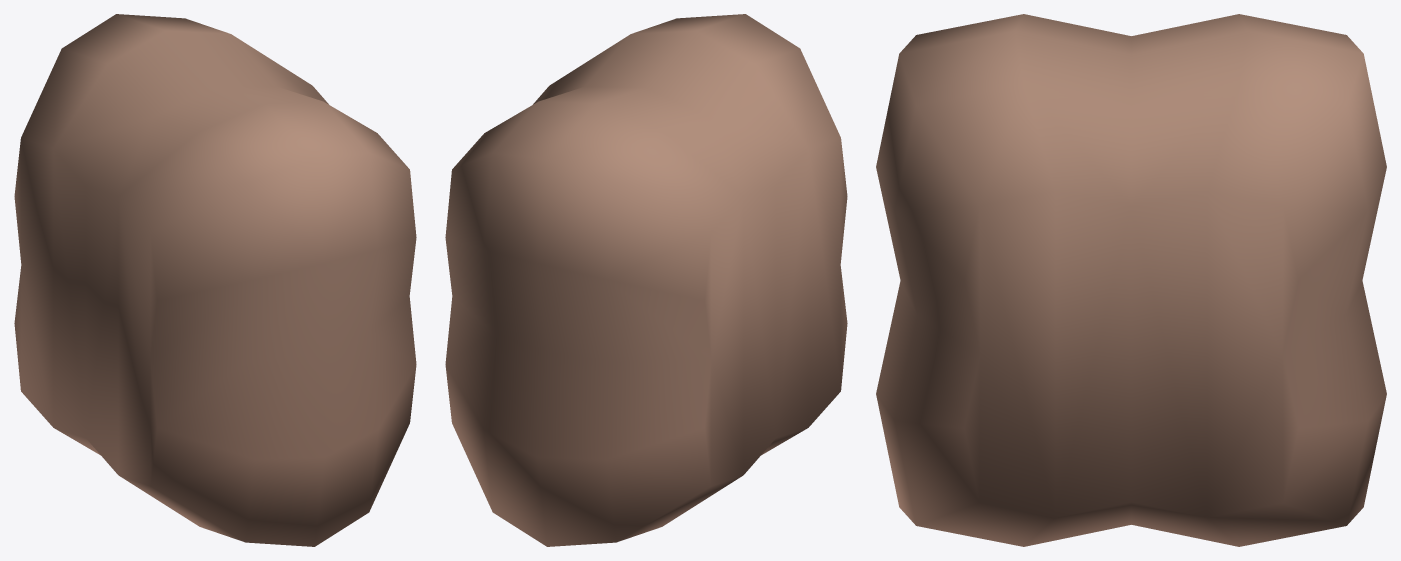
File: pillow-fluffy-square.glb
3 views of the same model, side by side, from view 1: azimuth 30°, elevation 25°; view 2: azimuth 150°, elevation 25°; view 3: azimuth 270°, elevation 25° (orthographic). The views are drawn at different scales.
Visible parts, largest first — view 1: pillow-fluffy-square; view 2: pillow-fluffy-square; view 3: pillow-fluffy-square.
Boxes of the visible parts, x1,y1,x2,y2 form: pillow-fluffy-square: (14,14,416,546); pillow-fluffy-square: (445,14,847,546); pillow-fluffy-square: (876,14,1386,546).
Bounding box in the file's own units: 0.2336 × 0.3672 × 0.3409.
